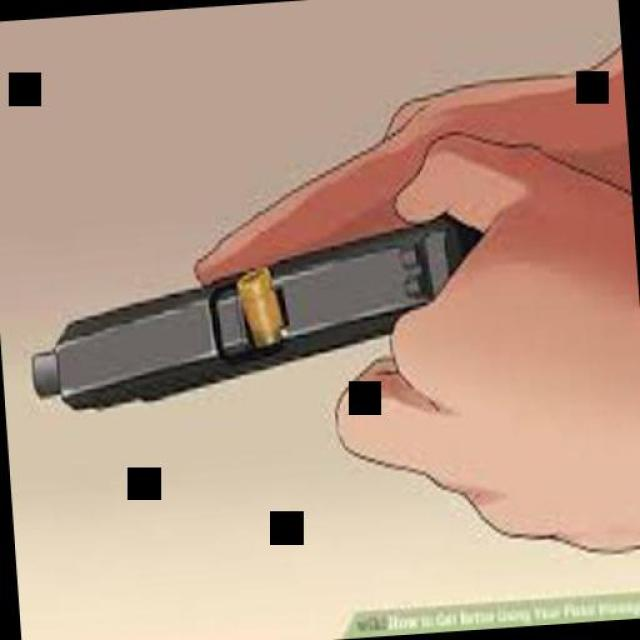gun: (0, 182, 515, 432)
